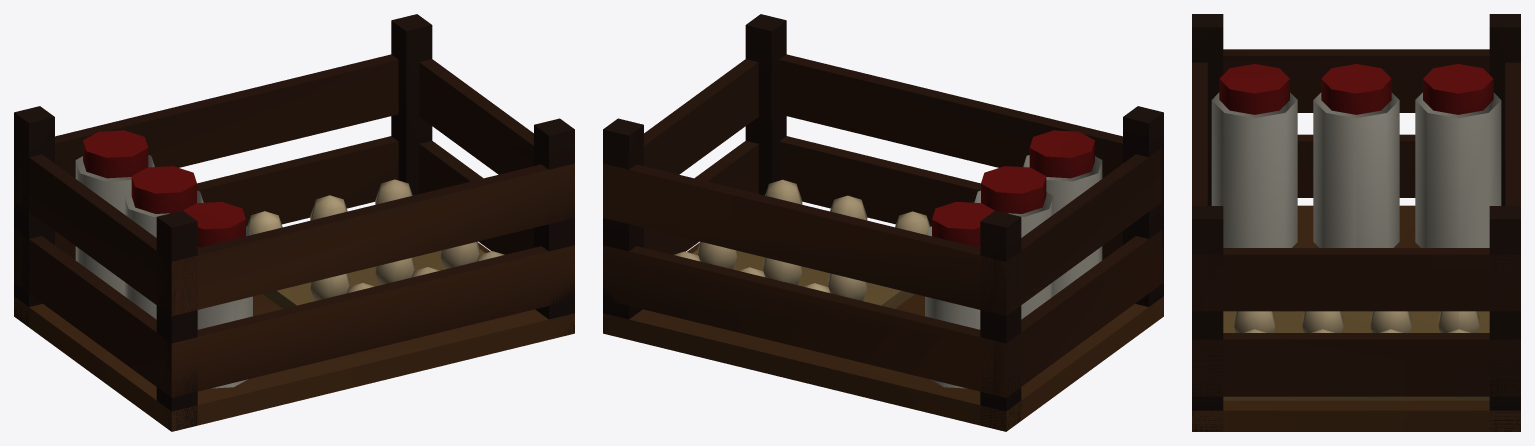
The model's file is fm_crate.glb.
The picture shows the model from 3 angles, left to right: view 1: azimuth 30°, elevation 25°; view 2: azimuth 150°, elevation 25°; view 3: azimuth 270°, elevation 25°; orthographic projection. The views are drawn at different scales.
Visible parts, largest first — view 1: fm_crate; view 2: fm_crate; view 3: fm_crate.
Boxes of the visible parts, x1,y1,x2,y2 form: fm_crate: (14, 14, 574, 431); fm_crate: (603, 14, 1163, 431); fm_crate: (1192, 14, 1520, 431).
Size of the model in its own units: 0.62 by 0.3 by 0.42.
